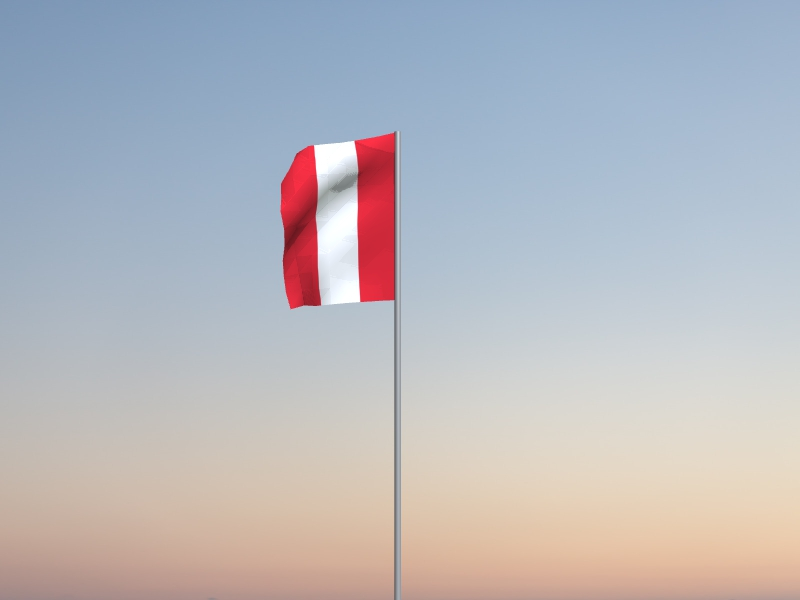at: (279, 133, 395, 312)
